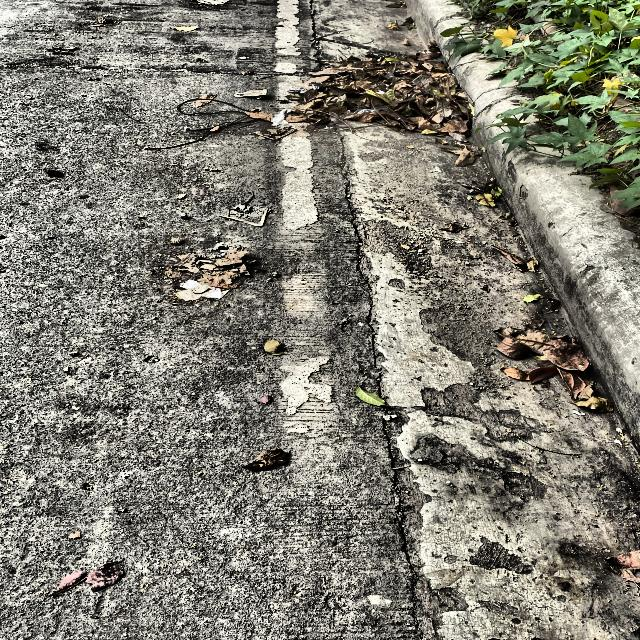no_or_faded_road_markings: (272, 102, 319, 260), (280, 330, 335, 439), (283, 265, 326, 321), (275, 0, 300, 56), (275, 60, 302, 100)
